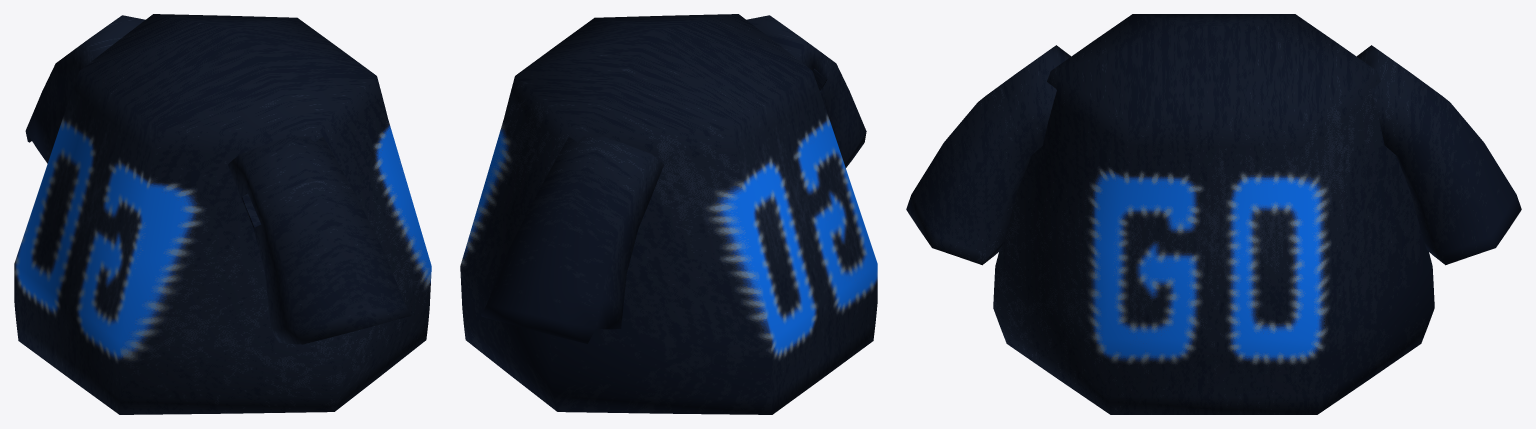
3 views of the same model, side by side, from view 1: azimuth 30°, elevation 25°; view 2: azimuth 150°, elevation 25°; view 3: azimuth 270°, elevation 25° (orthographic). The views are drawn at different scales.
Visible parts, largest first — view 1: GO; view 2: GO; view 3: GO.
Part boxes in pixels (x1=…): GO: x1=14, y1=14, x2=431, y2=414; GO: x1=460, y1=14, x2=877, y2=414; GO: x1=906, y1=14, x2=1521, y2=414.
Size of the model in its own units: 1.46 by 1.48 by 2.45.
1 material, 1 textured.
